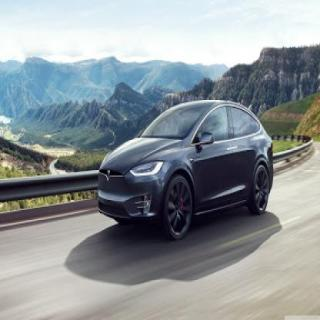Normal_vehicle: (98, 100, 272, 239)
